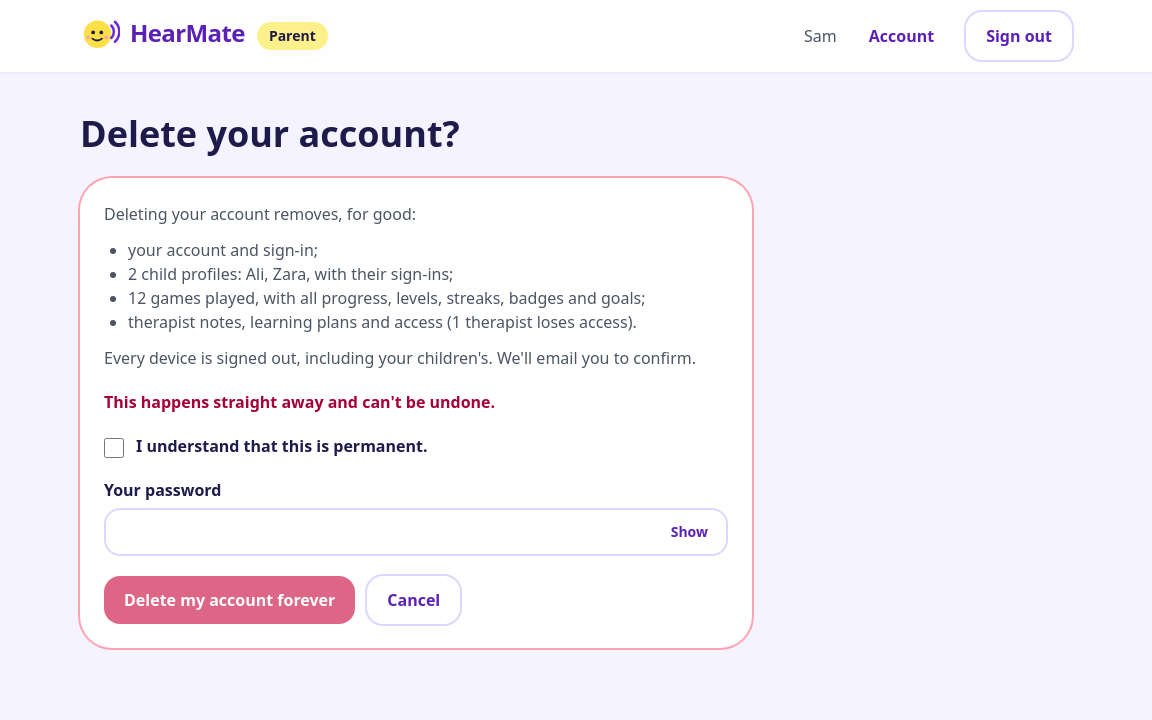
Test: Deleting a parent account › keeps everything when the password is wrong
The width and height of the screenshot is (1152, 720).
Click the checkbox labelled "I understand that this is permanent." at (114, 448), box [104,438,124,458]
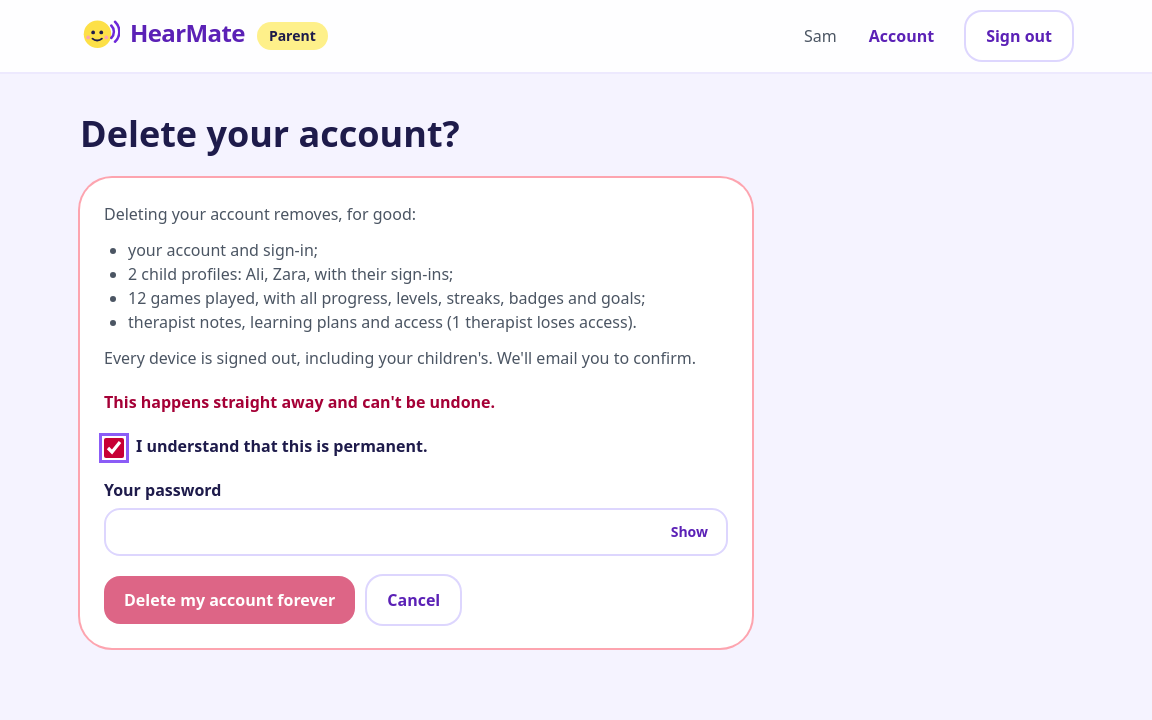
Type "not-my-password" into the password field labelled "Your password" at (416, 532), box [104,508,728,556]
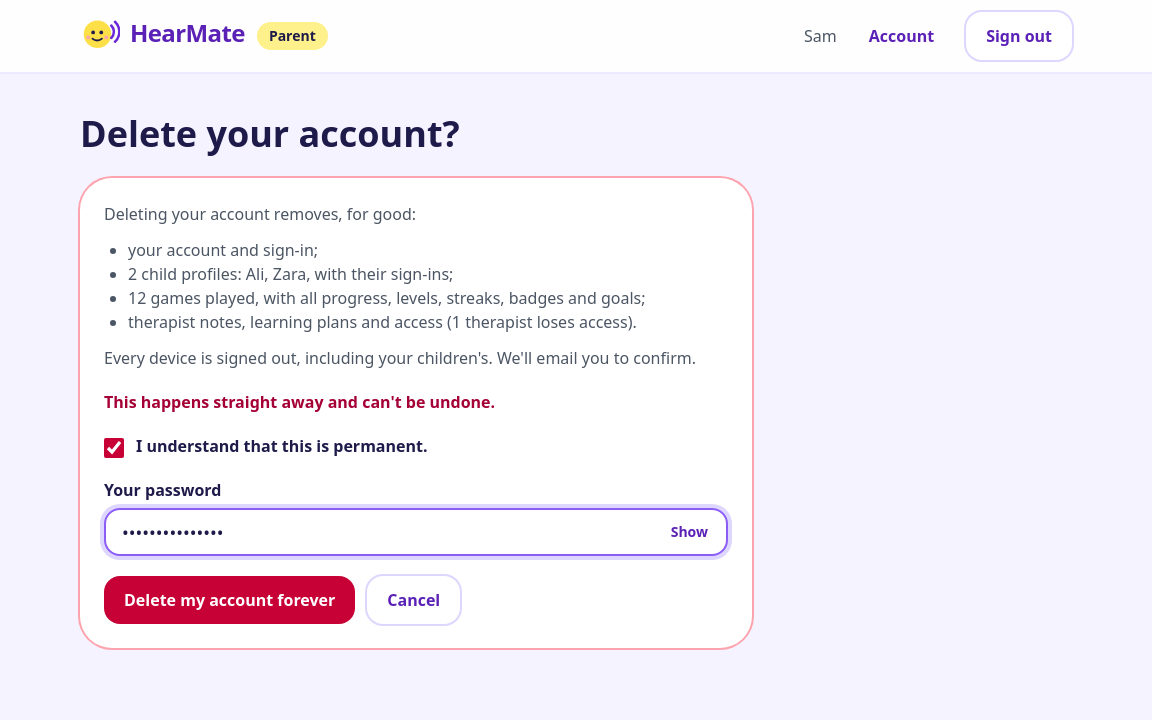
Click the button "Delete my account forever" at (230, 600), box [104,576,355,624]
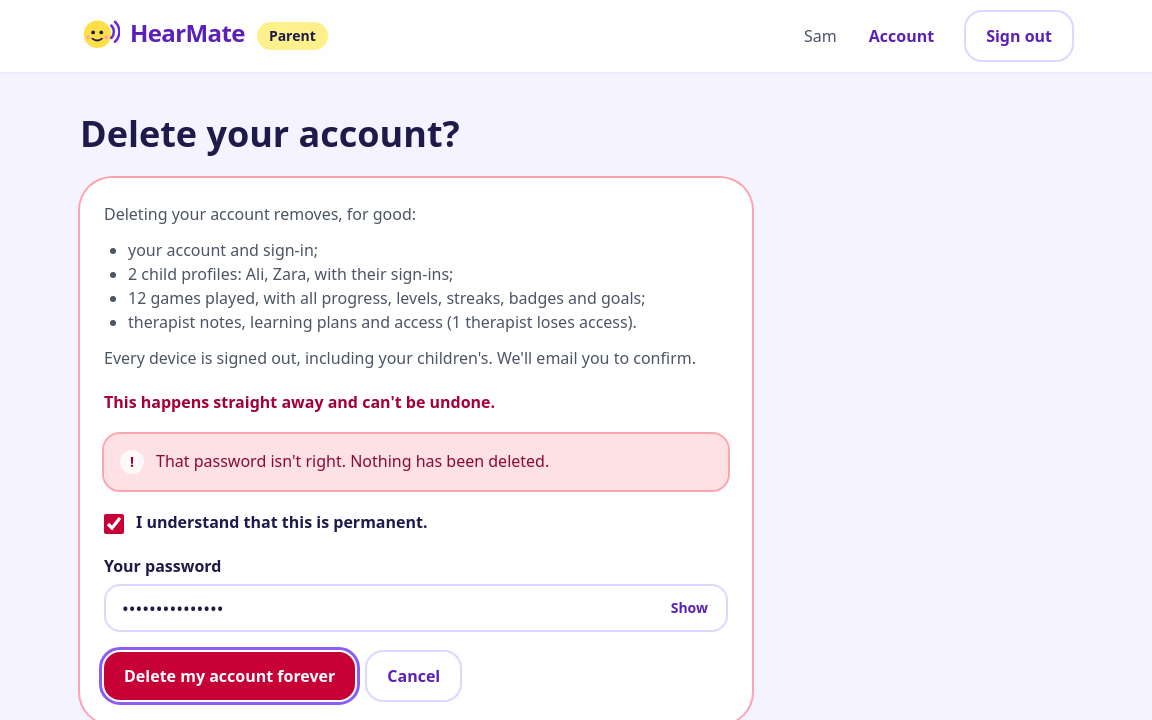
Expected: the text "That password isn't right. Nothing has been deleted." is shown, [156,450,549,472]
